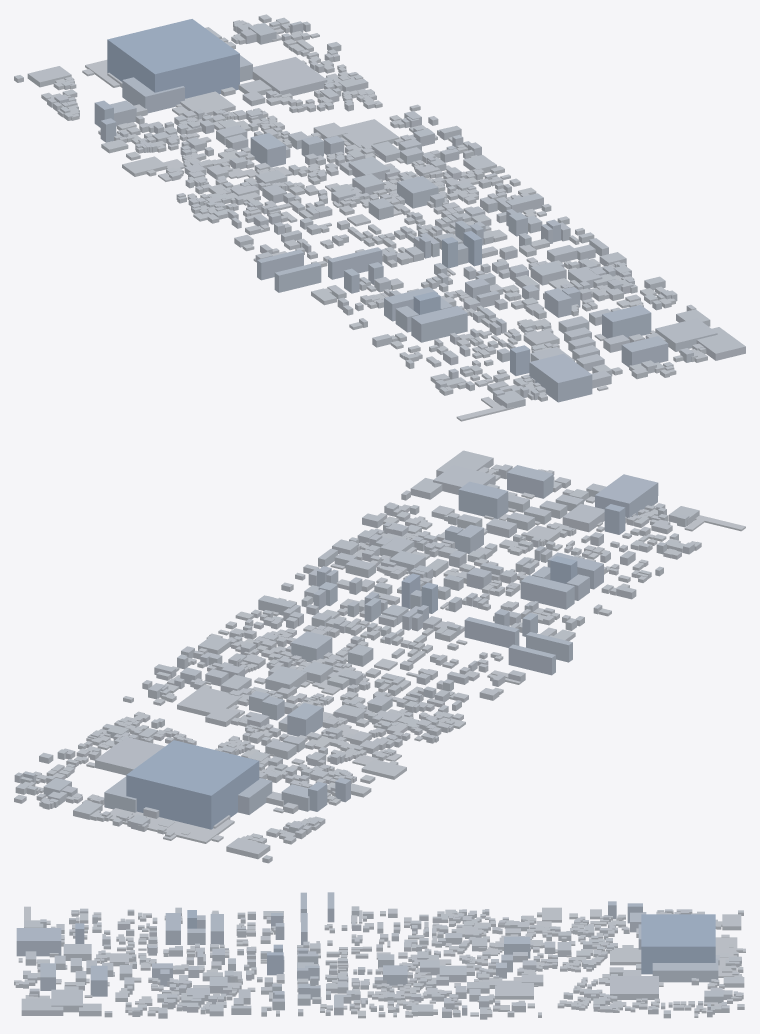
3 views of the same model, one above another, from view 1: azimuth 30°, elevation 25°; view 2: azimuth 150°, elevation 25°; view 3: azimuth 270°, elevation 25° (orthographic). The views are drawn at different scales.
Size of the model in its own units: 553 by 63.53 by 1507.
